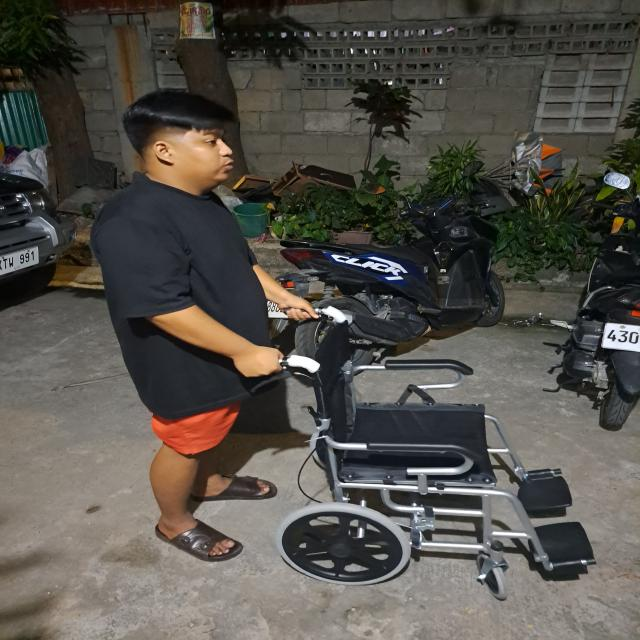wheelchairs: (269, 304, 601, 602)
